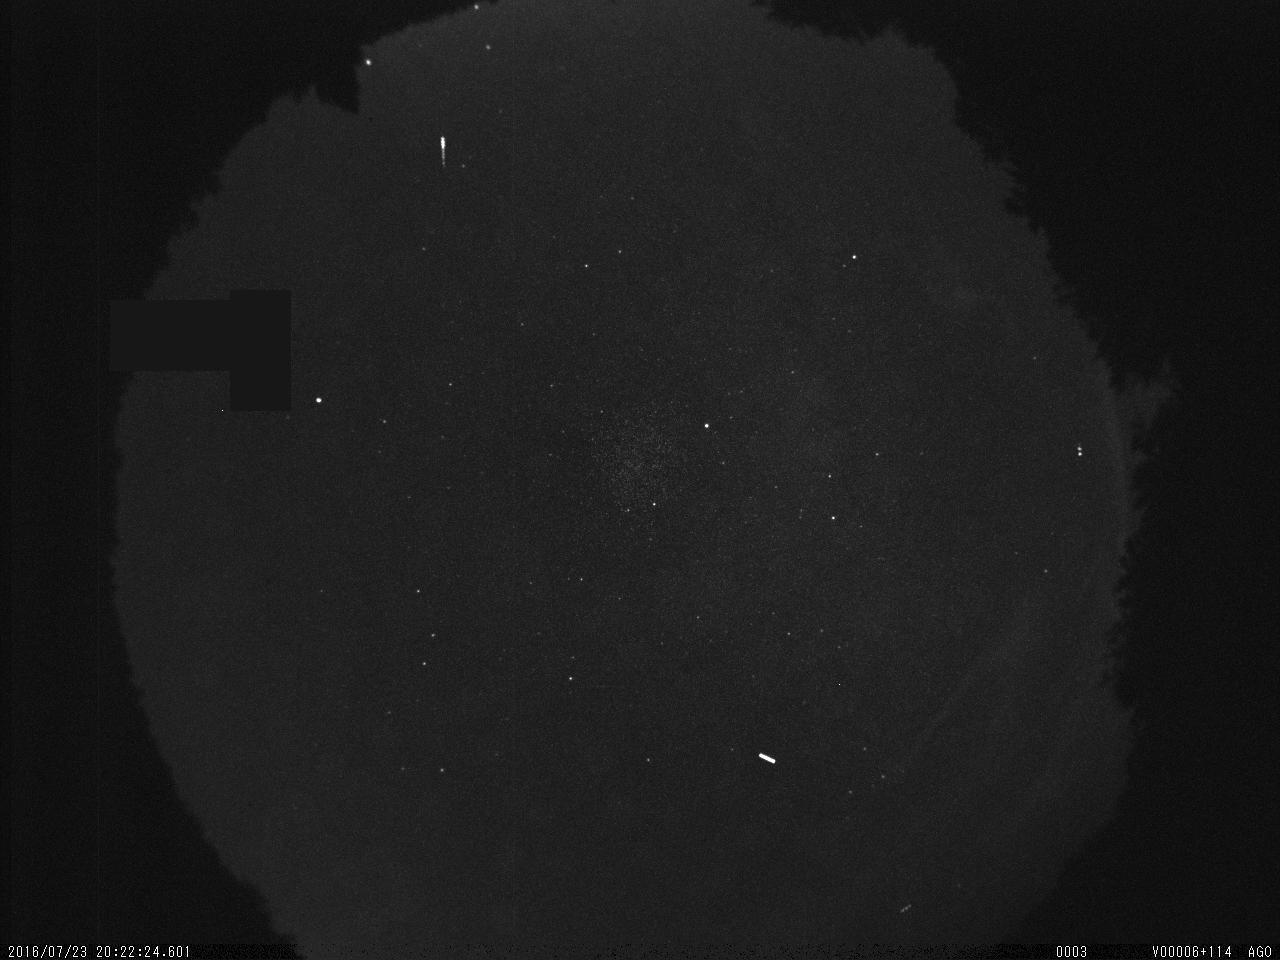meteor: (433, 131, 457, 173)
satelite: (753, 744, 782, 777)
